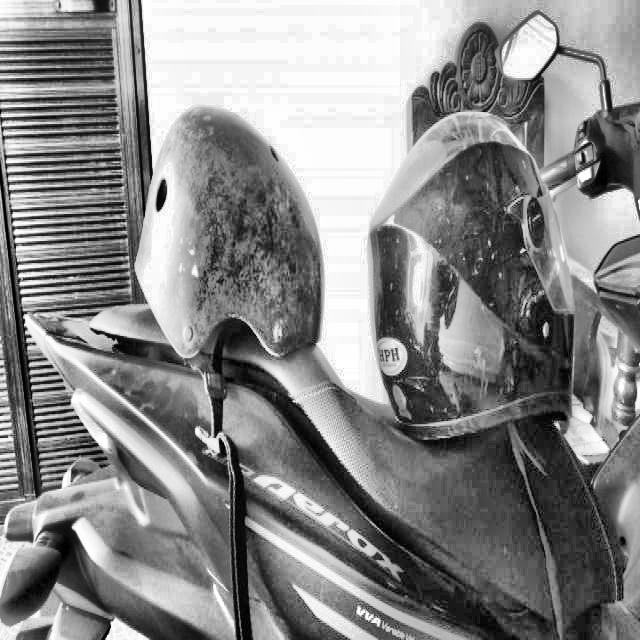Helmet: (364, 104, 576, 448)
